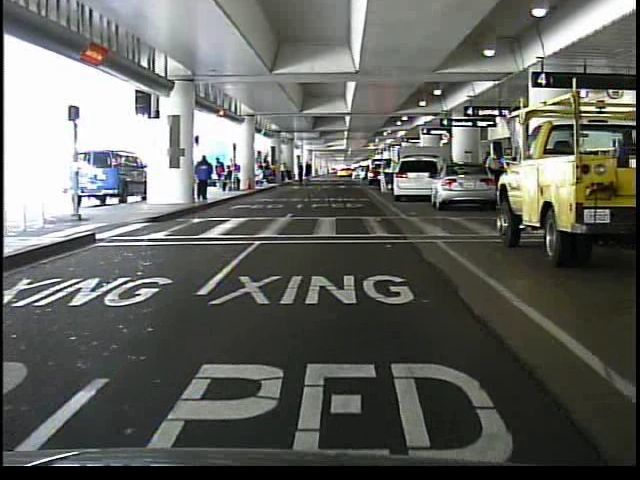person: (192, 152, 214, 204)
